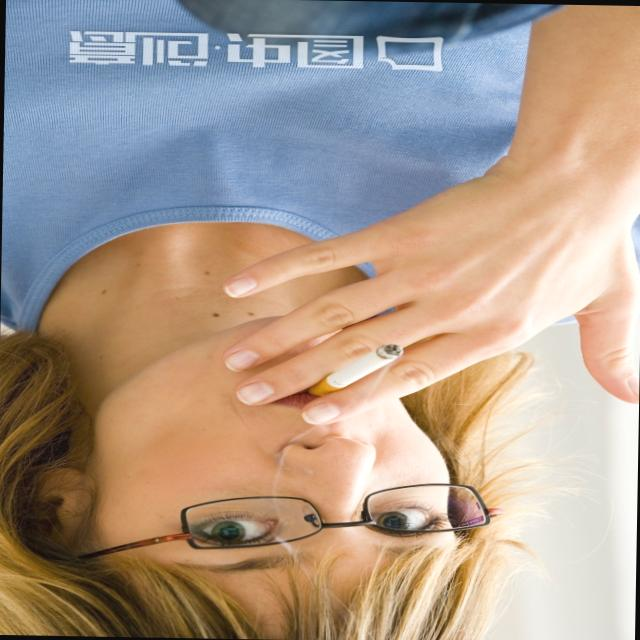cigarette: (304, 340, 404, 399)
